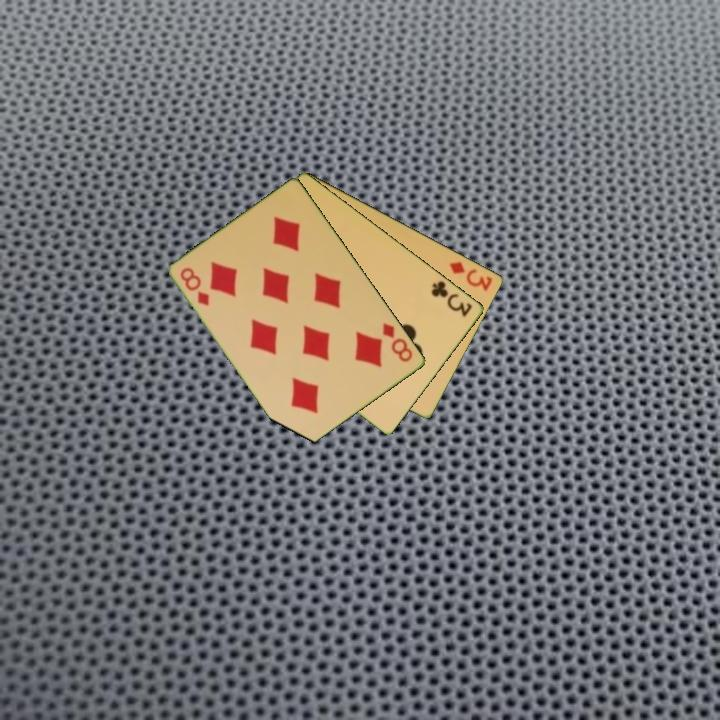3c: (428, 277, 476, 320)
3d: (446, 258, 496, 294)
8d: (379, 319, 416, 365), (177, 264, 213, 309)
